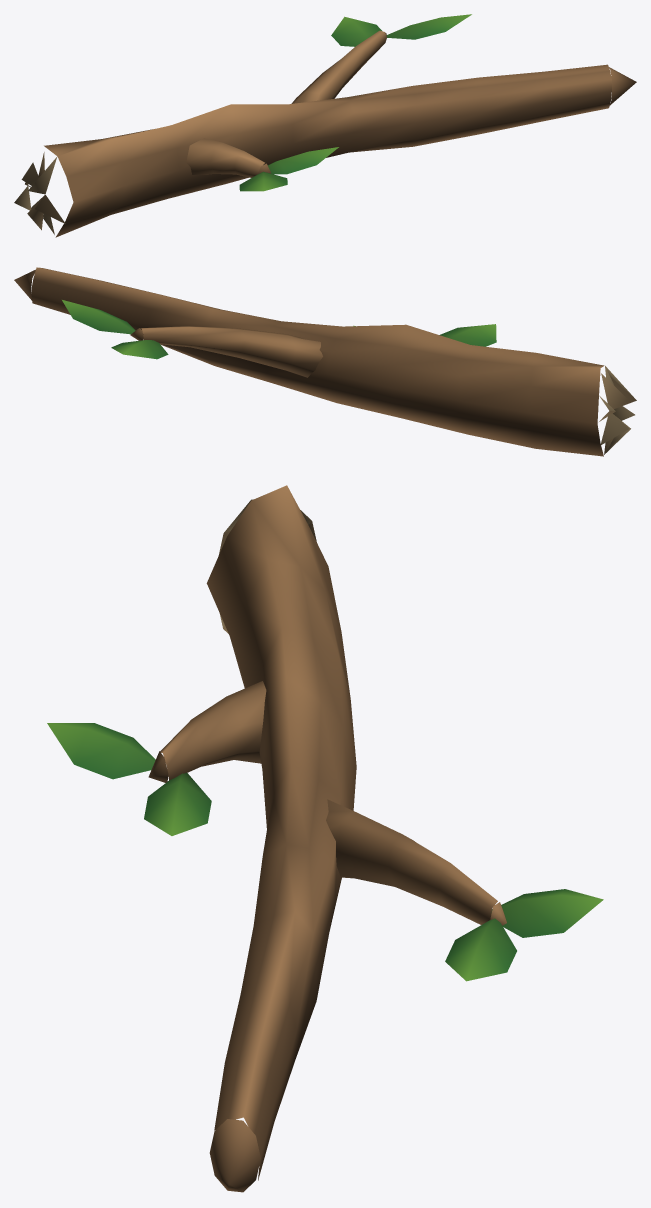
The model's file is node-branch-v3.glb.
3 renders of one model, top to bottom at view 1: azimuth 30°, elevation 25°; view 2: azimuth 150°, elevation 25°; view 3: azimuth 270°, elevation 25°, orthographic. The views are drawn at different scales.
Visible parts, largest first — view 1: 0_branch; view 2: 0_branch; view 3: 0_branch.
Boxes of the visible parts, x1,y1,x2,y2 form: 0_branch: [14, 14, 636, 237]; 0_branch: [14, 267, 636, 456]; 0_branch: [47, 485, 603, 1192].
Size of the model in its own units: 1.07 by 0.1499 by 0.4255.
